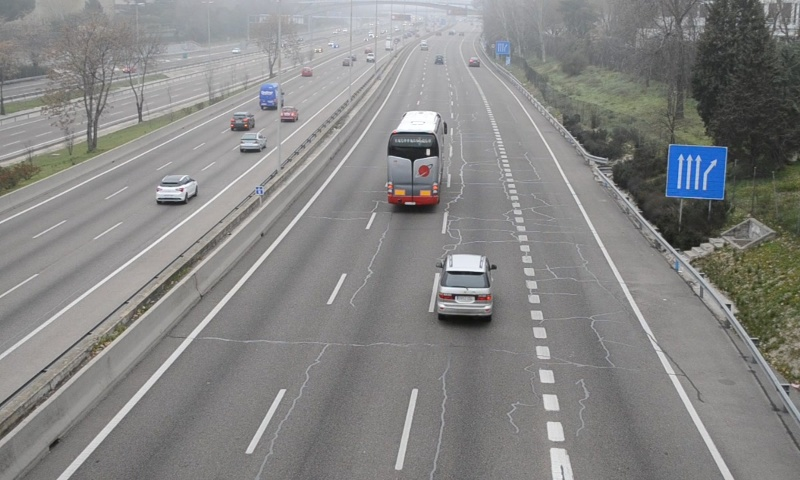bus: (386, 111, 444, 210)
car: (434, 253, 494, 318)
